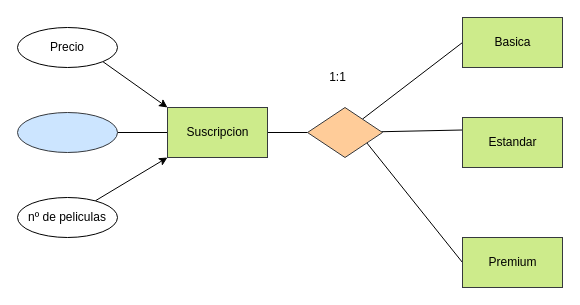
Image size: 580x305. Some labels were removed from this diagram. Here are the shapes that lost their labels. From the top down, the centre of each, then its label:
At (67,132): "id".
At (344,132): "es".
